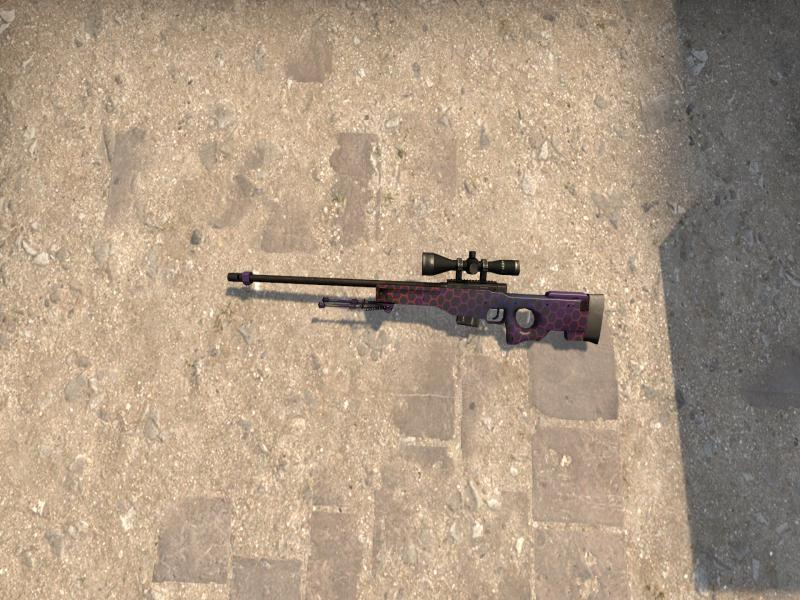AWP: (228, 251, 605, 344)
